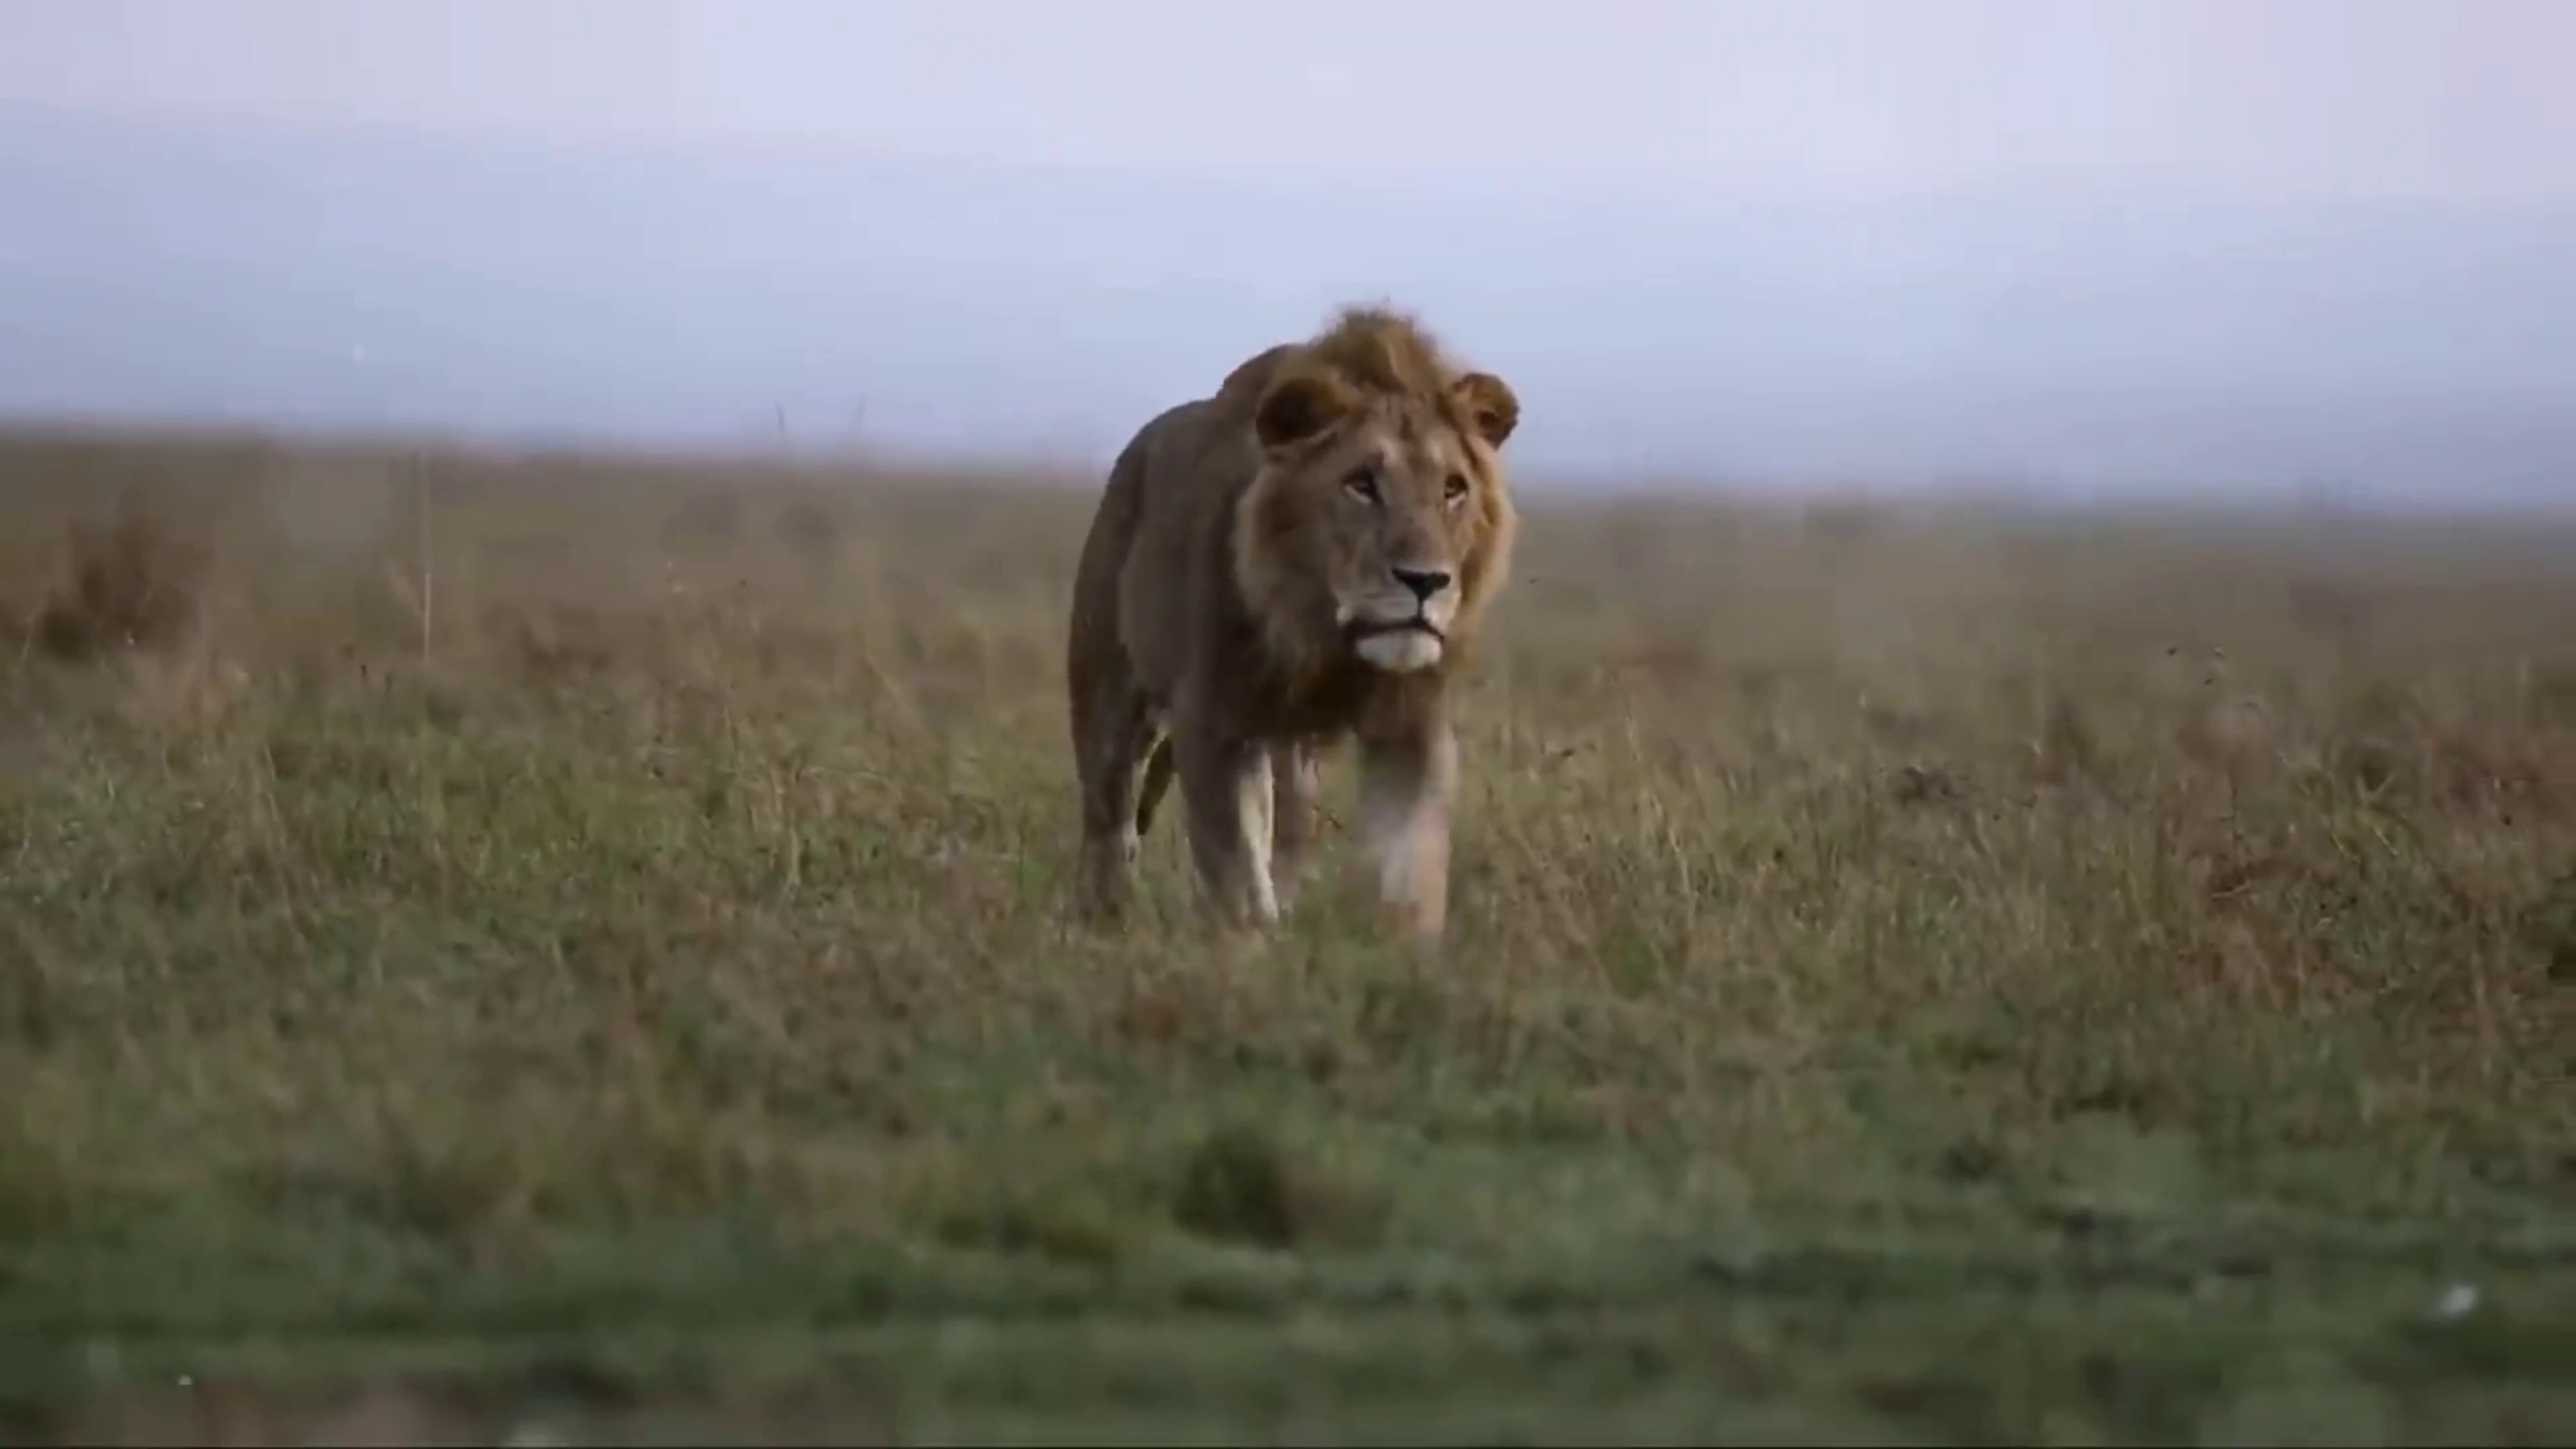Lion: (1067, 294, 1523, 941)
